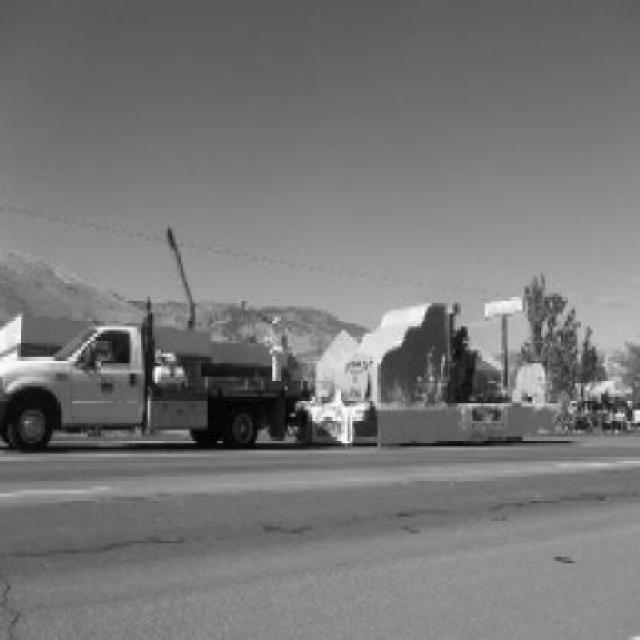Pickup- Utility: (0, 308, 292, 449)
Trailer: (289, 402, 568, 443)
